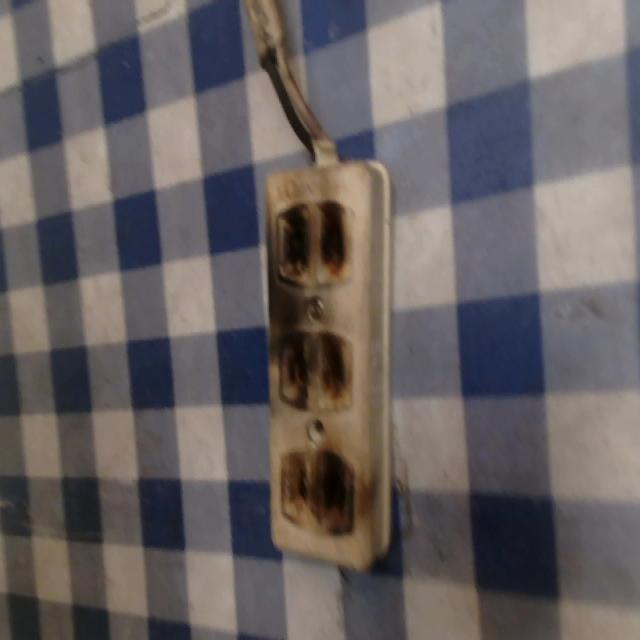-: (274, 195, 354, 286), (278, 445, 355, 535), (274, 325, 356, 408)
